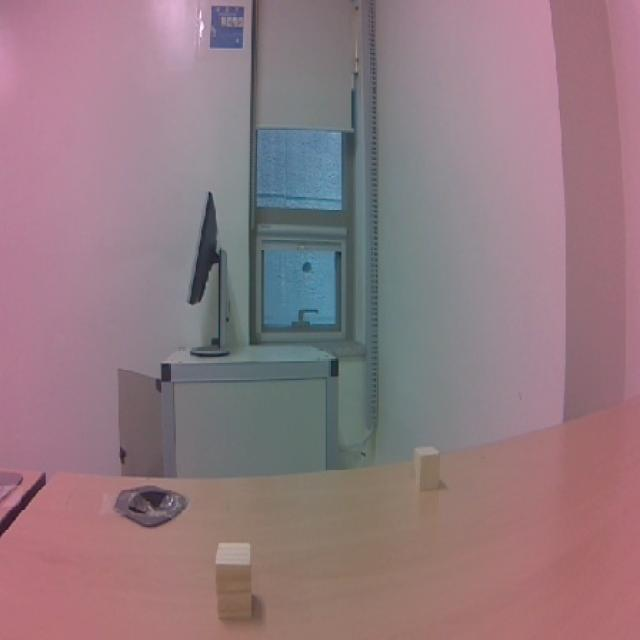obstacle: (204, 537, 270, 626), (408, 441, 444, 496)
